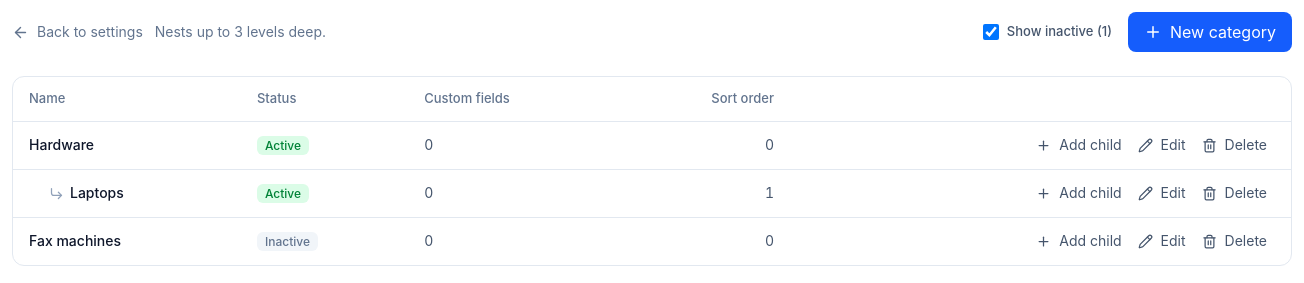
inactive categories can be hidden from the tree
Click the checkbox labelled "Show inactive (1)".
click(991, 32)  # box x1=983 y1=24 x2=999 y2=40
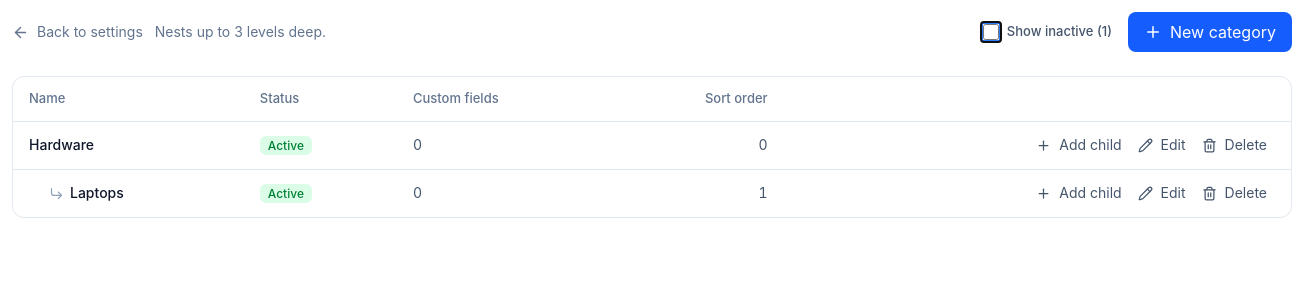
expect the cell "Hardware" is shown: met, box x1=13 y1=121 x2=244 y2=169
expect the text "Fax machines" is gone: met
